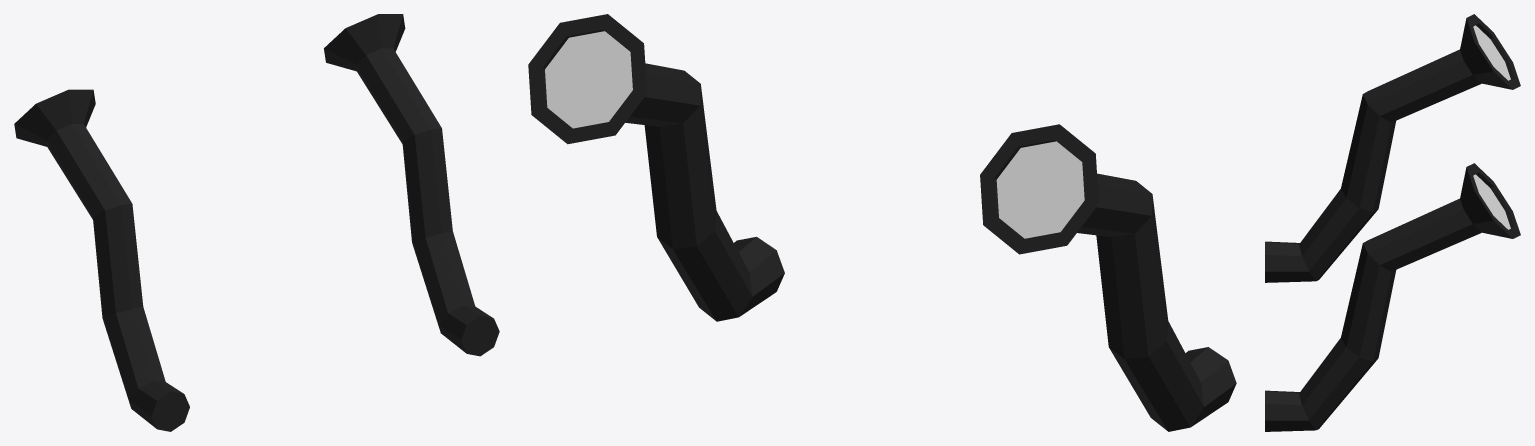
The model's file is exhaust4.glb.
3 views of the same model, side by side, from view 1: azimuth 30°, elevation 25°; view 2: azimuth 150°, elevation 25°; view 3: azimuth 270°, elevation 25° (orthographic). The views are drawn at different scales.
Parts seen in each view (by area): view 1: exhaust4; view 2: exhaust4; view 3: exhaust4.
Part boxes in pixels (x1,y1,x2,y2): exhaust4: (14,14,499,431); exhaust4: (528,14,1236,431); exhaust4: (1265,14,1520,431).
Size of the model in its own units: 2.41 by 1.58 by 1.39.
1 material, 1 textured.
